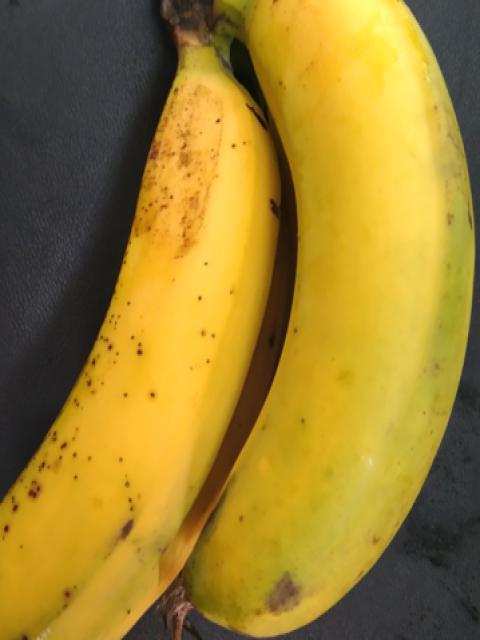freshripe: (226, 6, 479, 639)
ripe: (0, 63, 256, 639)
